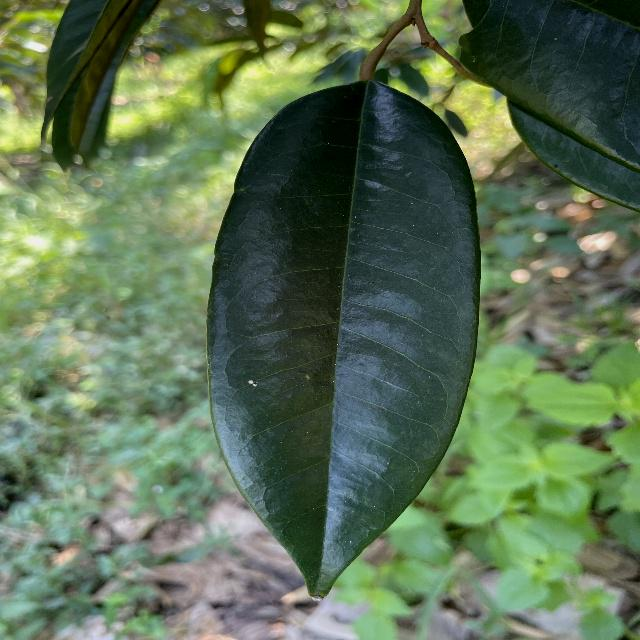No Disease: (197, 65, 489, 609)
